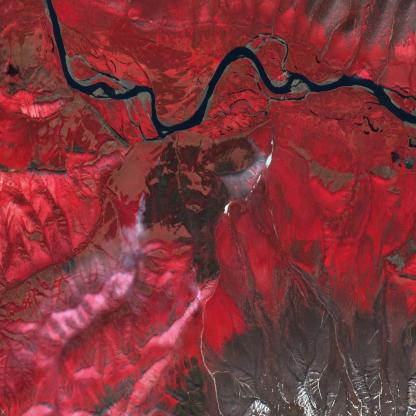fire: (133, 188, 150, 236), (186, 258, 203, 298), (242, 127, 258, 151)
